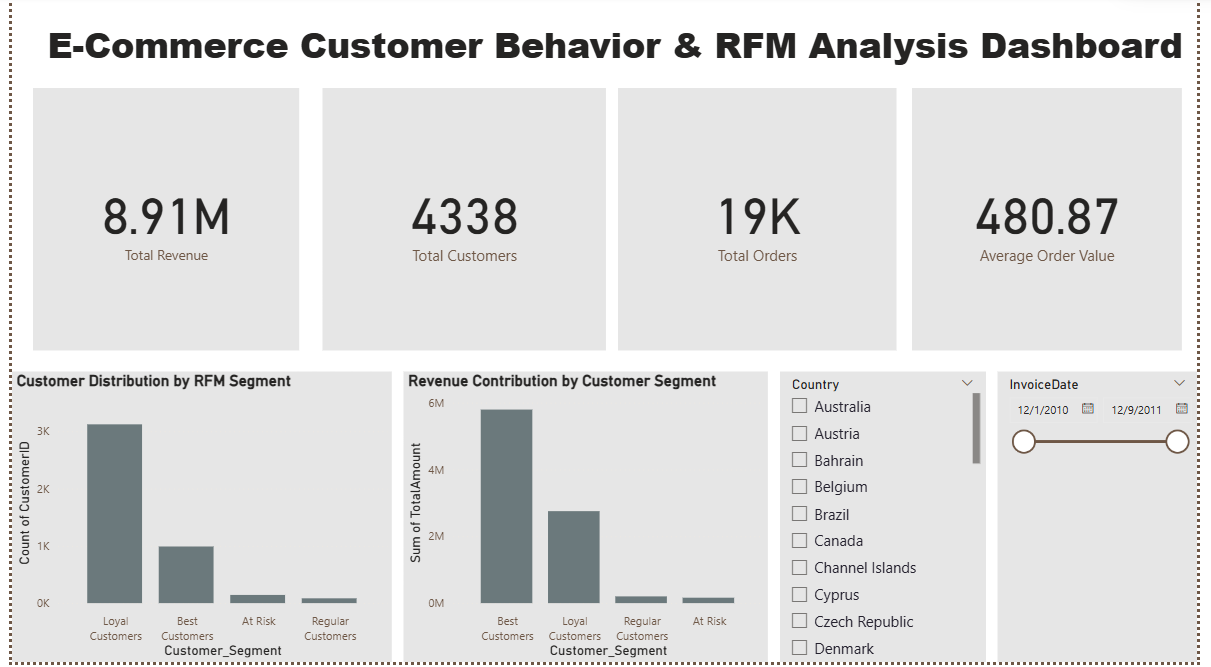

This screenshot's page, from the dashboard's own definition file:
{"tool":"powerbi","page":{"name":"Page 1","canvas":[1280,720],"ordinal":0},"visuals":[{"type":"clusteredColumnChart","title":"Customer Distribution by RFM Segment","fields":{"Category":["rfm_customer_segments.Customer_Segment"],"Y":["CountNonNull(rfm_customer_segments.CustomerID)"]},"box":[0,406.3,410.1,313.7],"z":0},{"type":"clusteredColumnChart","title":"Revenue Contribution by Customer Segment","fields":{"Category":["rfm_customer_segments.Customer_Segment"],"Y":["Sum(cleaned_ecommerce_data.TotalAmount)"]},"box":[423.3,406.3,393.1,313.7],"z":1},{"type":"slicer","fields":{"Values":["cleaned_ecommerce_data.Country"]},"box":[829.6,406.3,221.1,313.7],"z":2},{"type":"slicer","fields":{"Values":["cleaned_ecommerce_data.InvoiceDate"]},"box":[1063.9,406.3,215.4,313.7],"z":3},{"type":"card","fields":{"Values":["cleaned_ecommerce_data.Total Revenue"]},"box":[22.7,100.2,287.2,283.5],"z":4},{"type":"card","fields":{"Values":["cleaned_ecommerce_data.Total Customers"]},"box":[334.5,100.2,306.1,283.5],"z":5},{"type":"card","fields":{"Values":["cleaned_ecommerce_data.Total Orders"]},"box":[653.9,100.2,300.5,283.5],"z":6},{"type":"card","fields":{"Values":["cleaned_ecommerce_data.Average Order Value"]},"box":[971.3,100.2,291,283.5],"z":7},{"type":"textbox","box":[22.7,20.8,1256.7,79.4],"z":8}]}

Visuals, with their boxes in screenshot pixels (x1, y1, x2, y2), scaled from the page's 1280x720 canvas onto the 1211x667 screenshot:
"Customer Distribution by RFM Segment" clusteredColumnChart: <region>0, 376, 388, 666</region>
"Revenue Contribution by Customer Segment" clusteredColumnChart: <region>400, 376, 772, 666</region>
slicer - cleaned_ecommerce_data.Country: <region>785, 376, 994, 666</region>
slicer - cleaned_ecommerce_data.InvoiceDate: <region>1007, 376, 1210, 666</region>
card - cleaned_ecommerce_data.Total Revenue: <region>21, 93, 293, 355</region>
card - cleaned_ecommerce_data.Total Customers: <region>316, 93, 606, 355</region>
card - cleaned_ecommerce_data.Total Orders: <region>619, 93, 903, 355</region>
card - cleaned_ecommerce_data.Average Order Value: <region>919, 93, 1194, 355</region>
textbox: <region>21, 19, 1210, 93</region>
